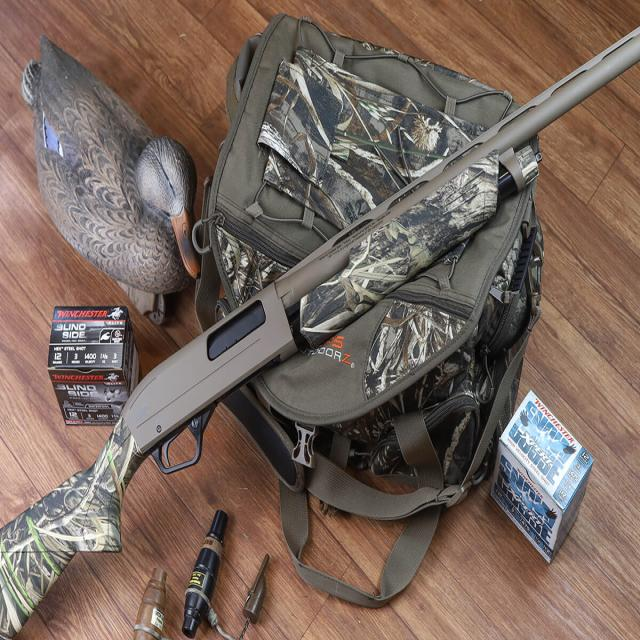ShotGun: (0, 26, 639, 640)
